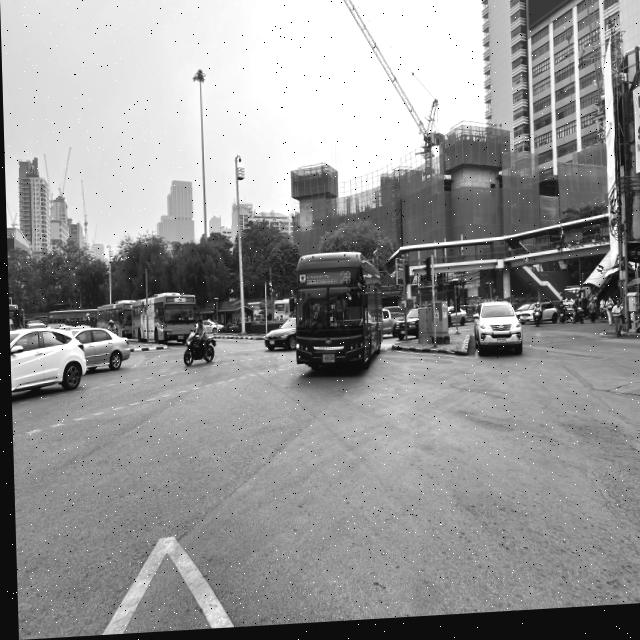BMTA-bus: (129, 292, 195, 348), (94, 300, 130, 343), (44, 306, 96, 331)
Bus-Line-Number: (337, 272, 351, 291), (173, 299, 184, 305)
Destination-Sign-Normal: (303, 275, 336, 291), (182, 319, 192, 323)
TSB-Bus: (288, 250, 383, 383)
